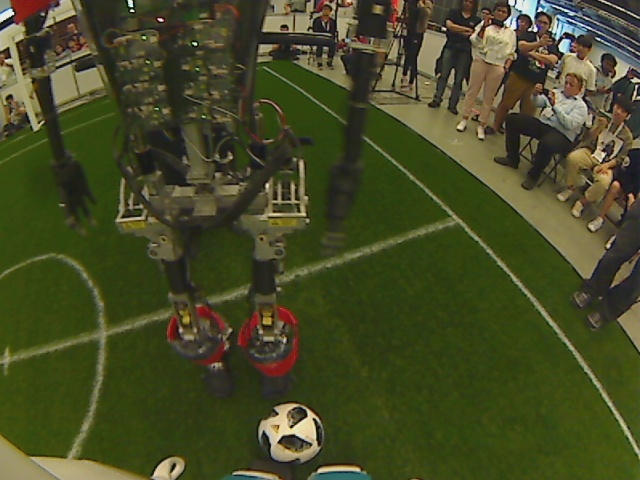ball: (255, 400, 326, 466)
